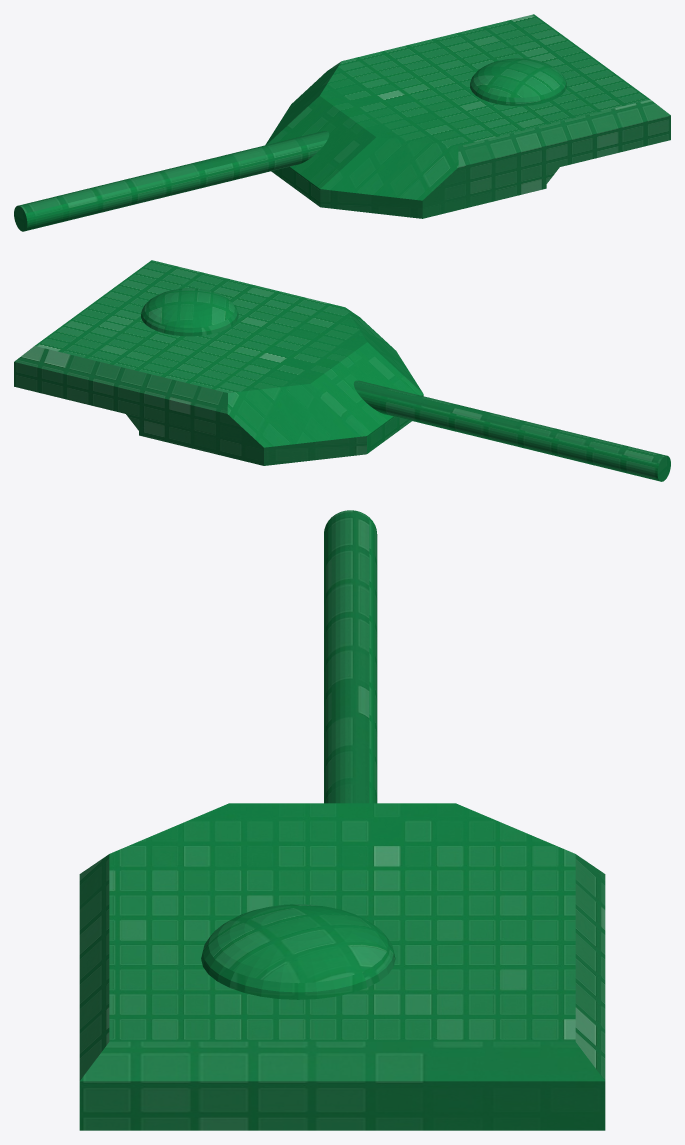
Rendered from turret.obj.
The picture shows the model from 3 angles, top to bottom: view 1: azimuth 30°, elevation 25°; view 2: azimuth 150°, elevation 25°; view 3: azimuth 270°, elevation 25°; orthographic projection. The views are drawn at different scales.
Parts seen in each view (by area): view 1: Cube_Cube.001; view 2: Cube_Cube.001; view 3: Cube_Cube.001.
Boxes of the visible parts, box(x1,y1,x2,y2) form: Cube_Cube.001: box(14, 14, 670, 231); Cube_Cube.001: box(14, 260, 670, 481); Cube_Cube.001: box(79, 510, 605, 1130).
Bounding box in the file's own units: 13.82 × 1.69 × 5.4.
Materials: 1 (1 with a texture image).
